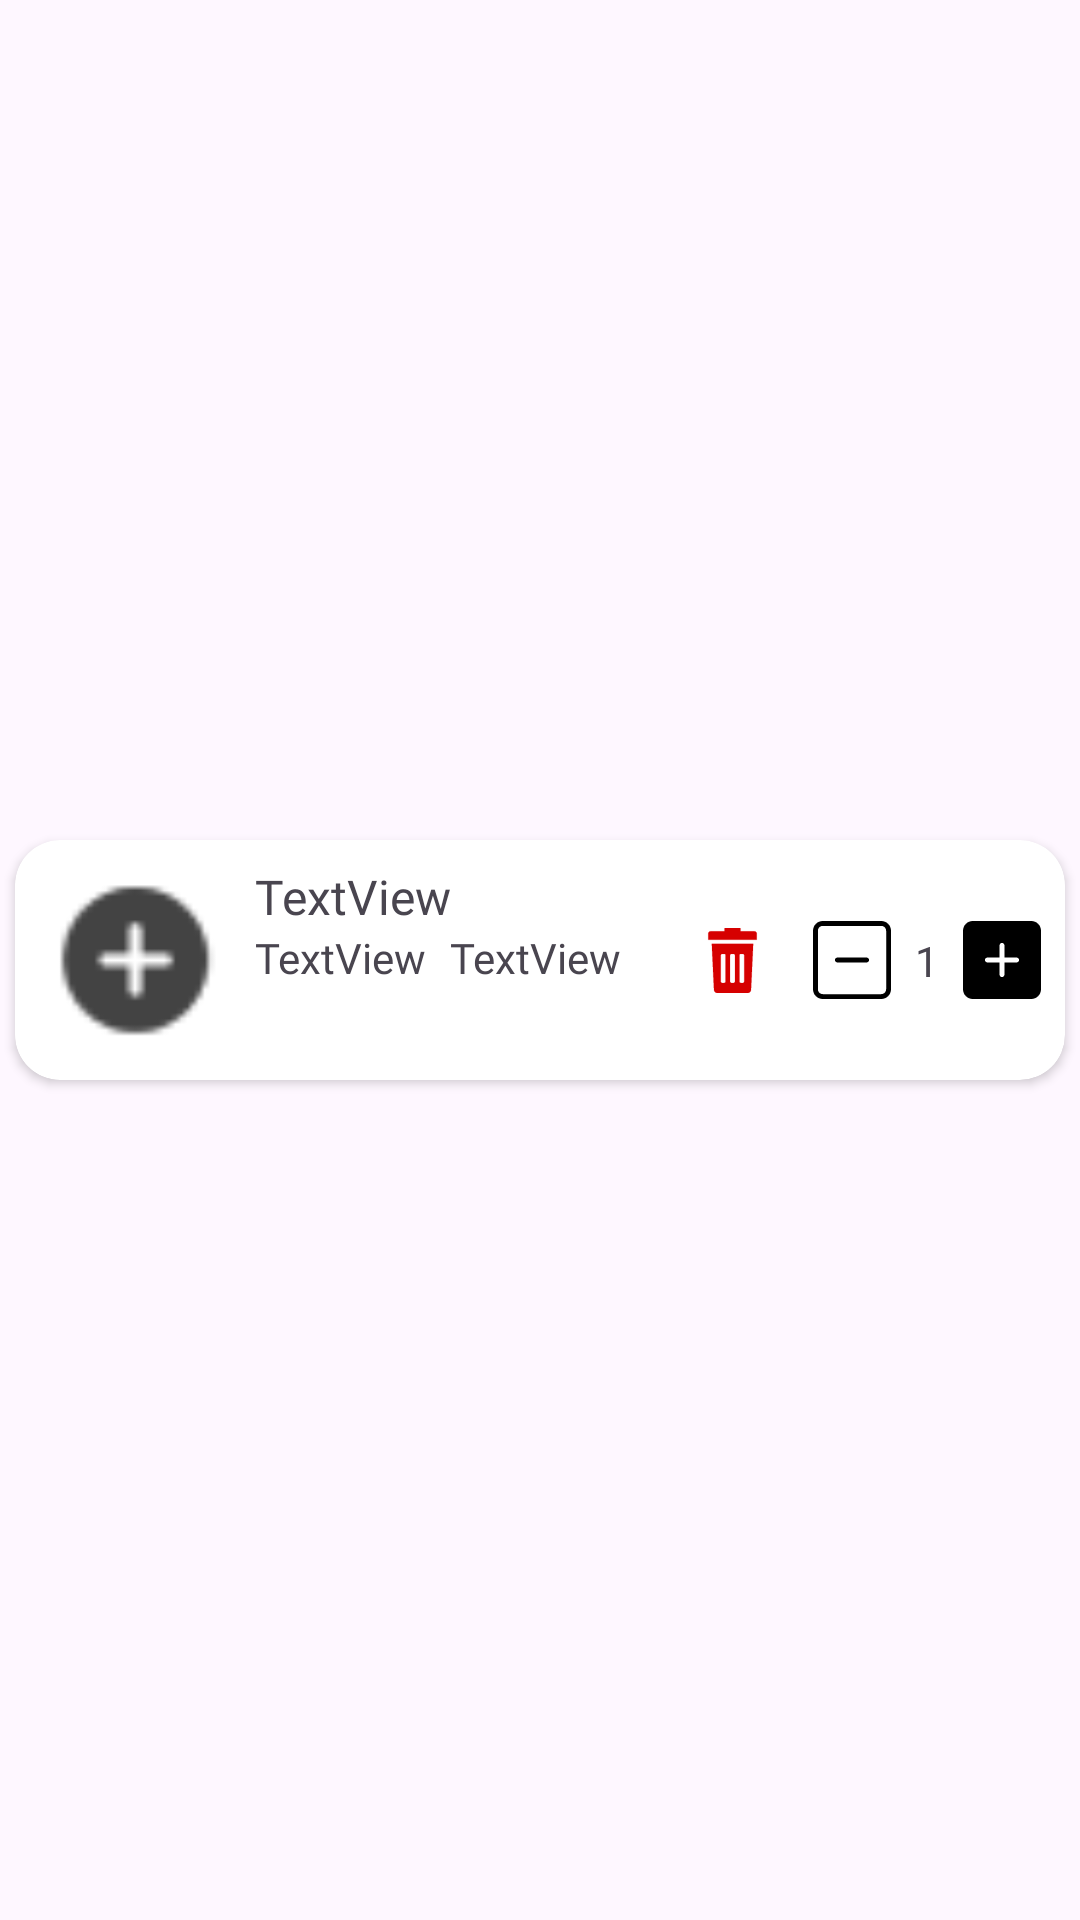

Named icons in this screenshot (1080×1920) and their bounding boxes, (x1, y1, x2, y2):
minus square: (813, 921, 891, 999)
plus square: (963, 921, 1041, 999)
rubbish bin: (708, 928, 757, 993)
